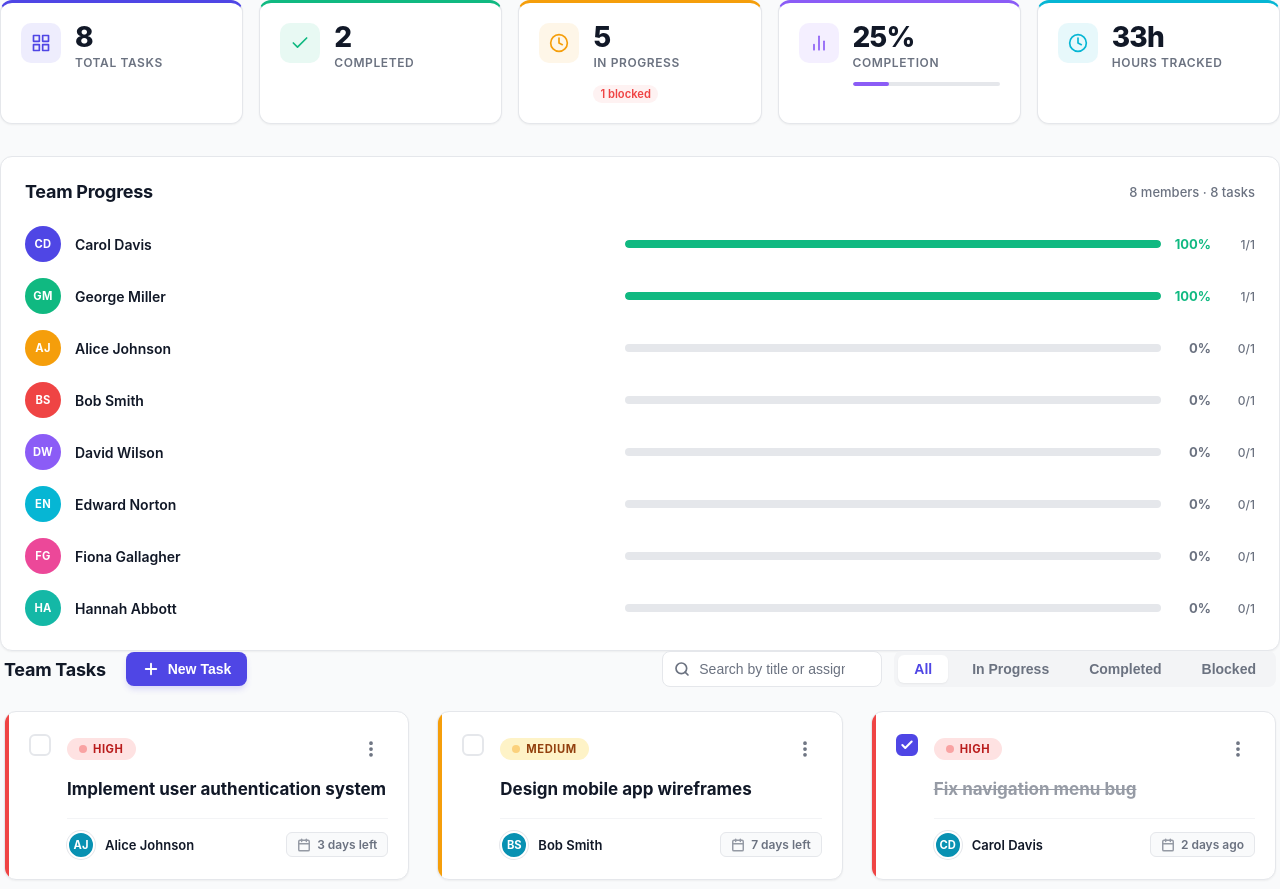
Scenario: TaskListView – task creation › newly created task appears at the top of the list
Click the button "New Task" at x=186, y=669, box [126,652,247,686]
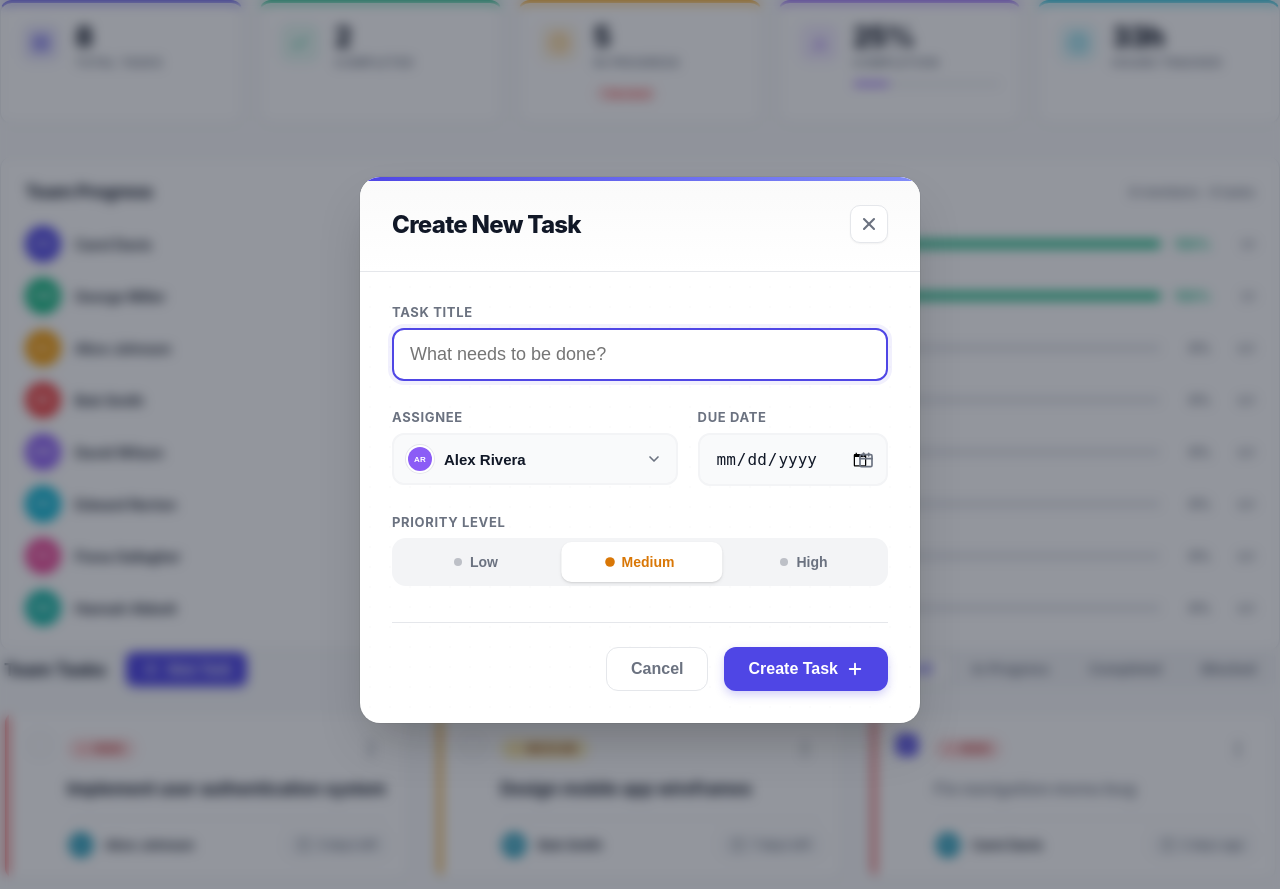
Type "Write release notes" into the field with placeholder "What needs to be done?" at x=640, y=354, box [392,328,888,381]
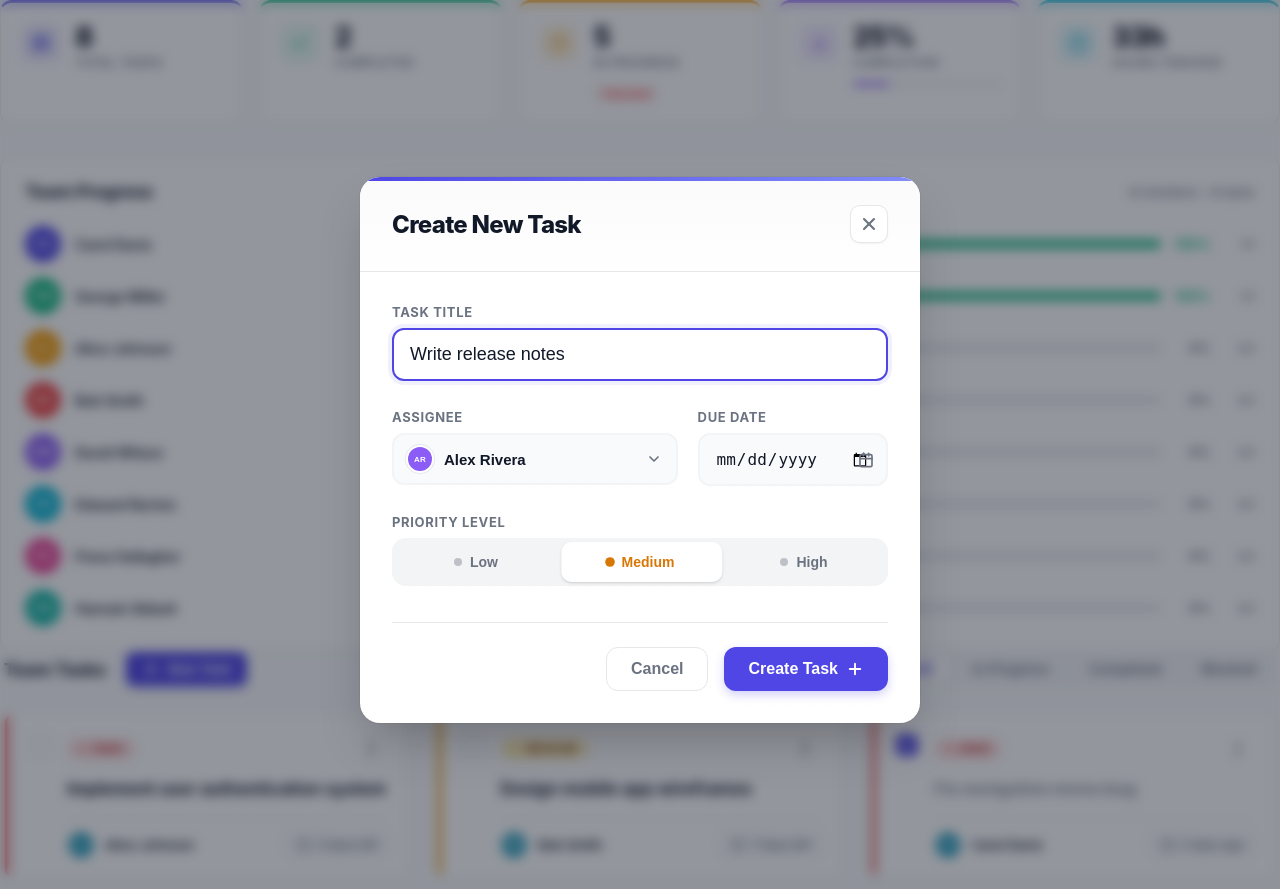
Click the button "Create Task" at x=806, y=669, box [724,647,888,691]
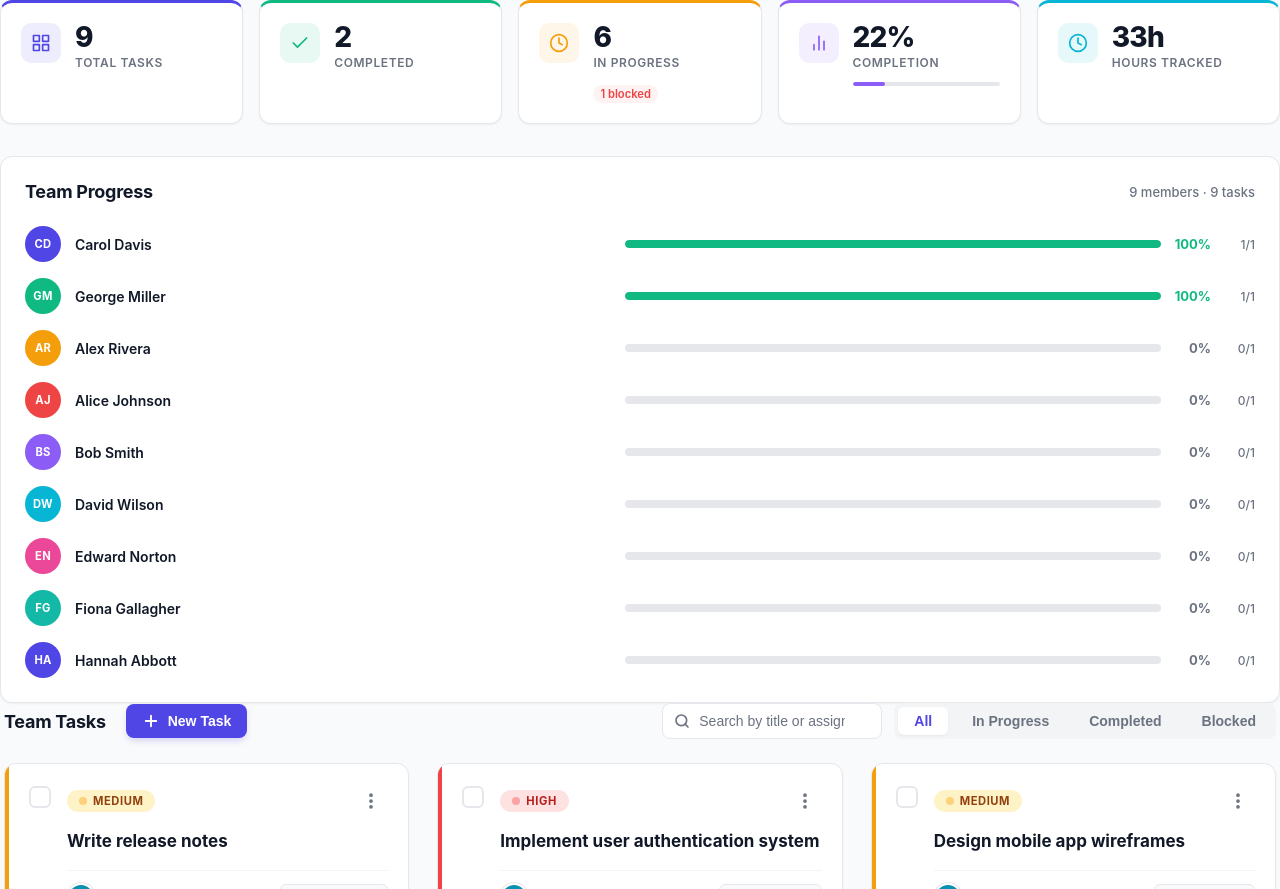
Now the heading "Write release notes" is shown, box [67,831,228,851]
